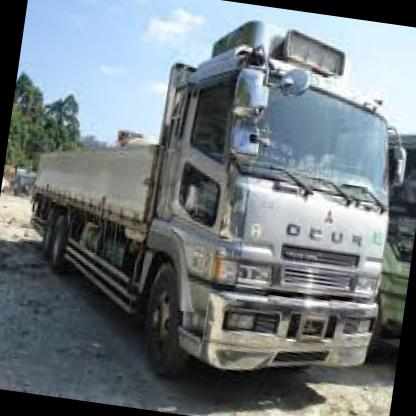truck: (126, 31, 414, 406)
